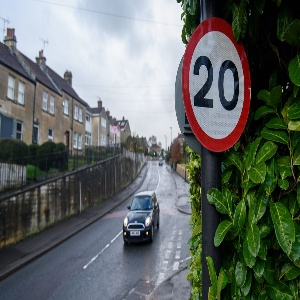20 speed: (182, 17, 251, 152)
